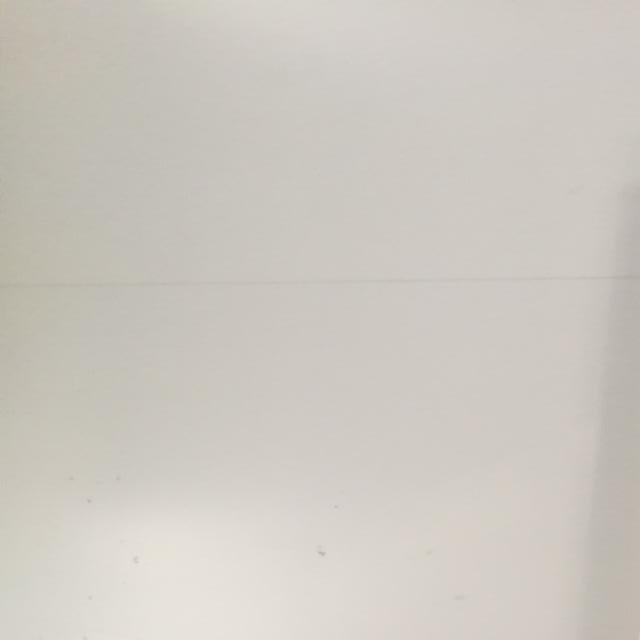fluorescent tube: (562, 117, 640, 640)
